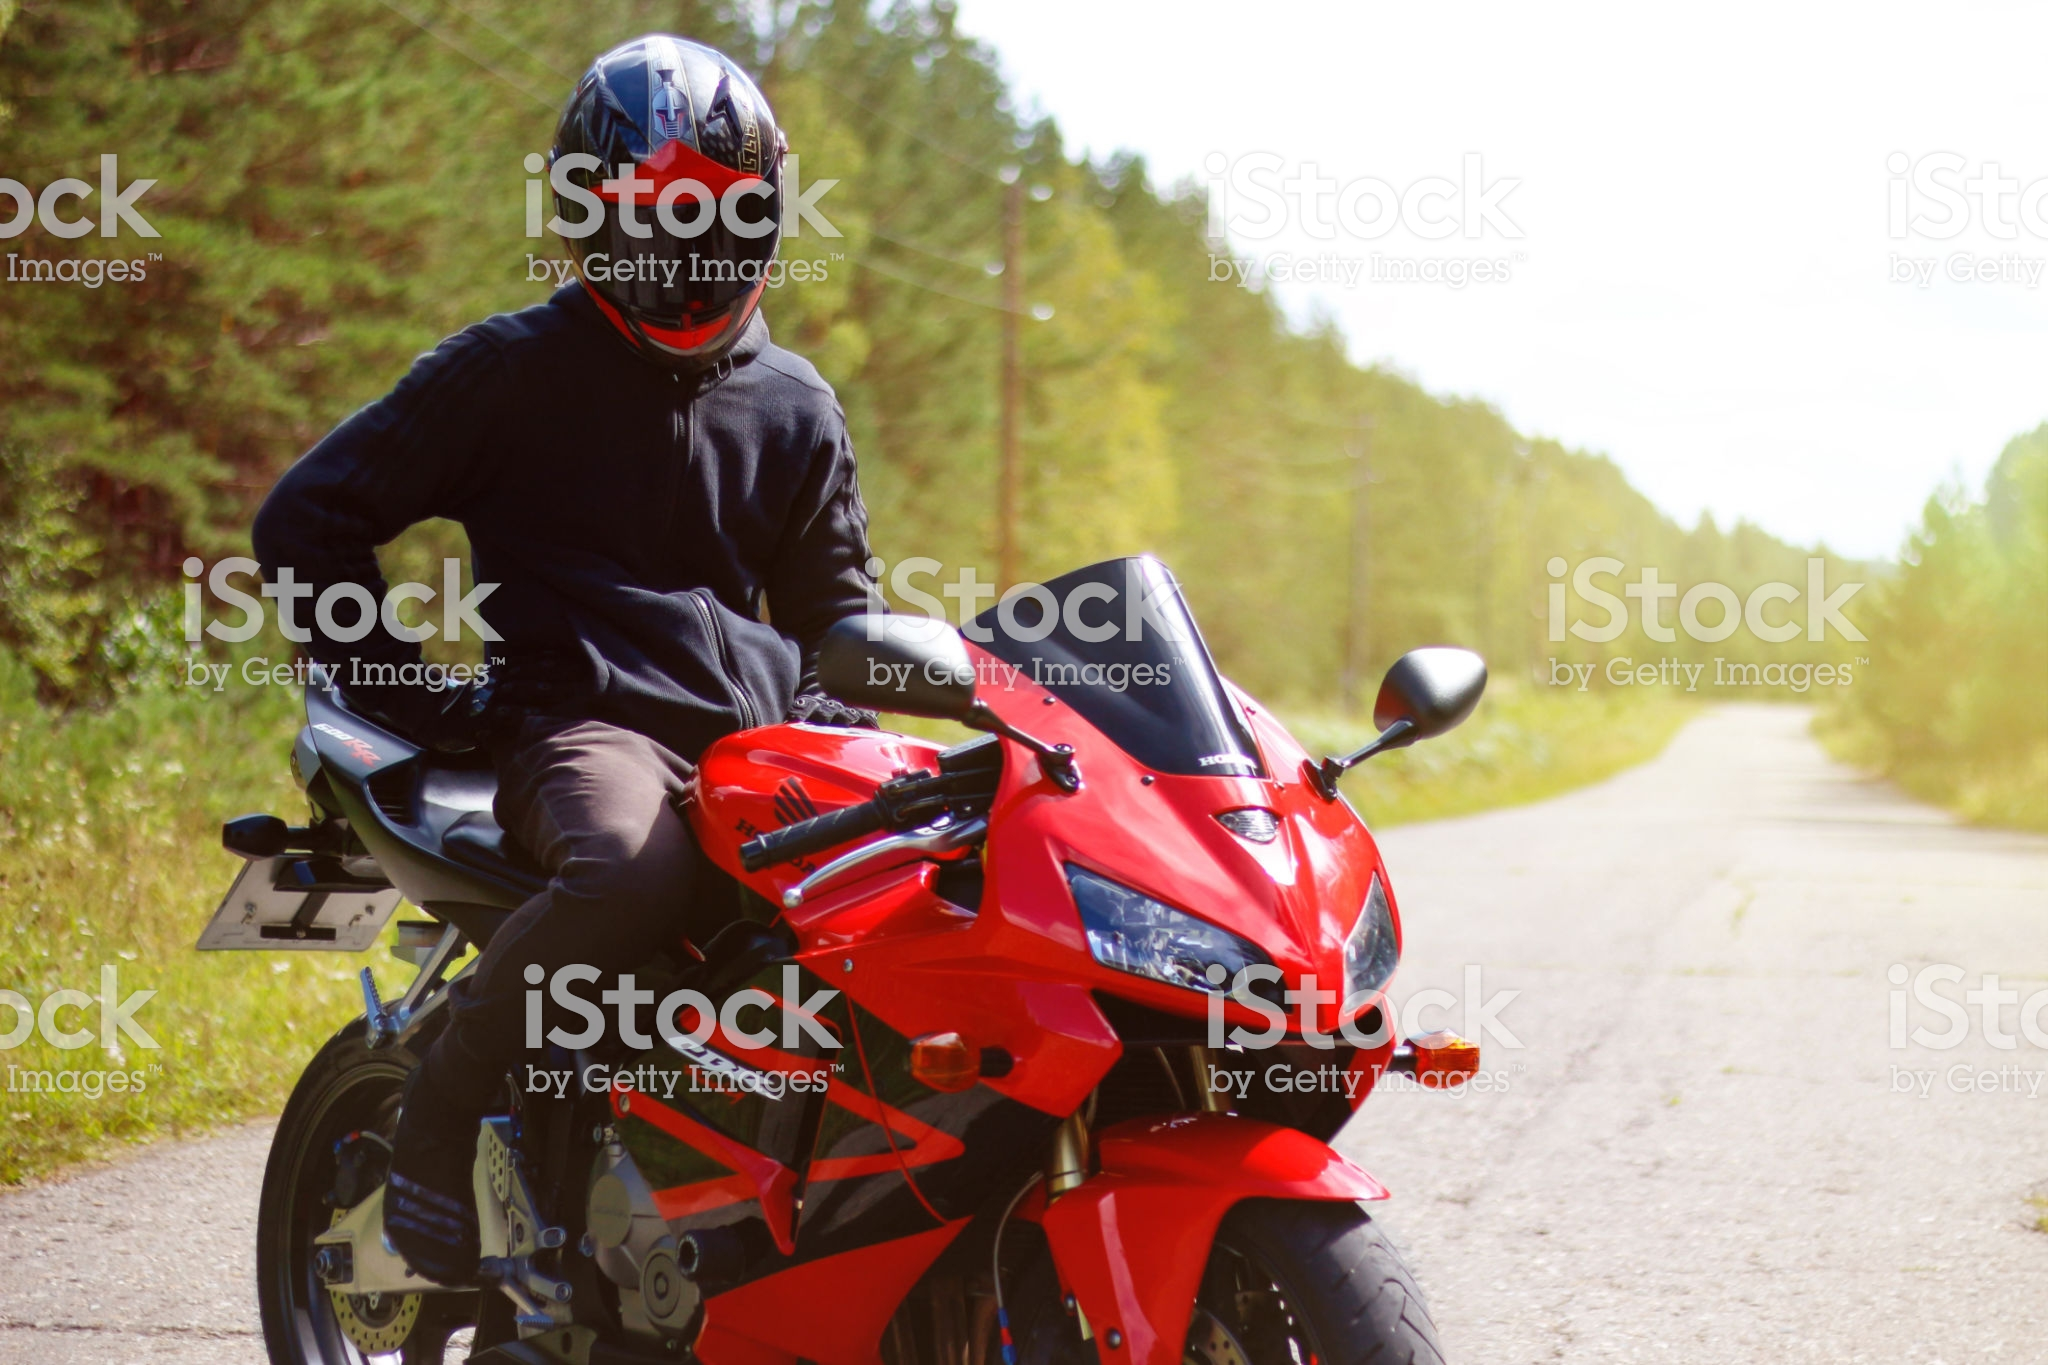helmet: (531, 44, 813, 395)
